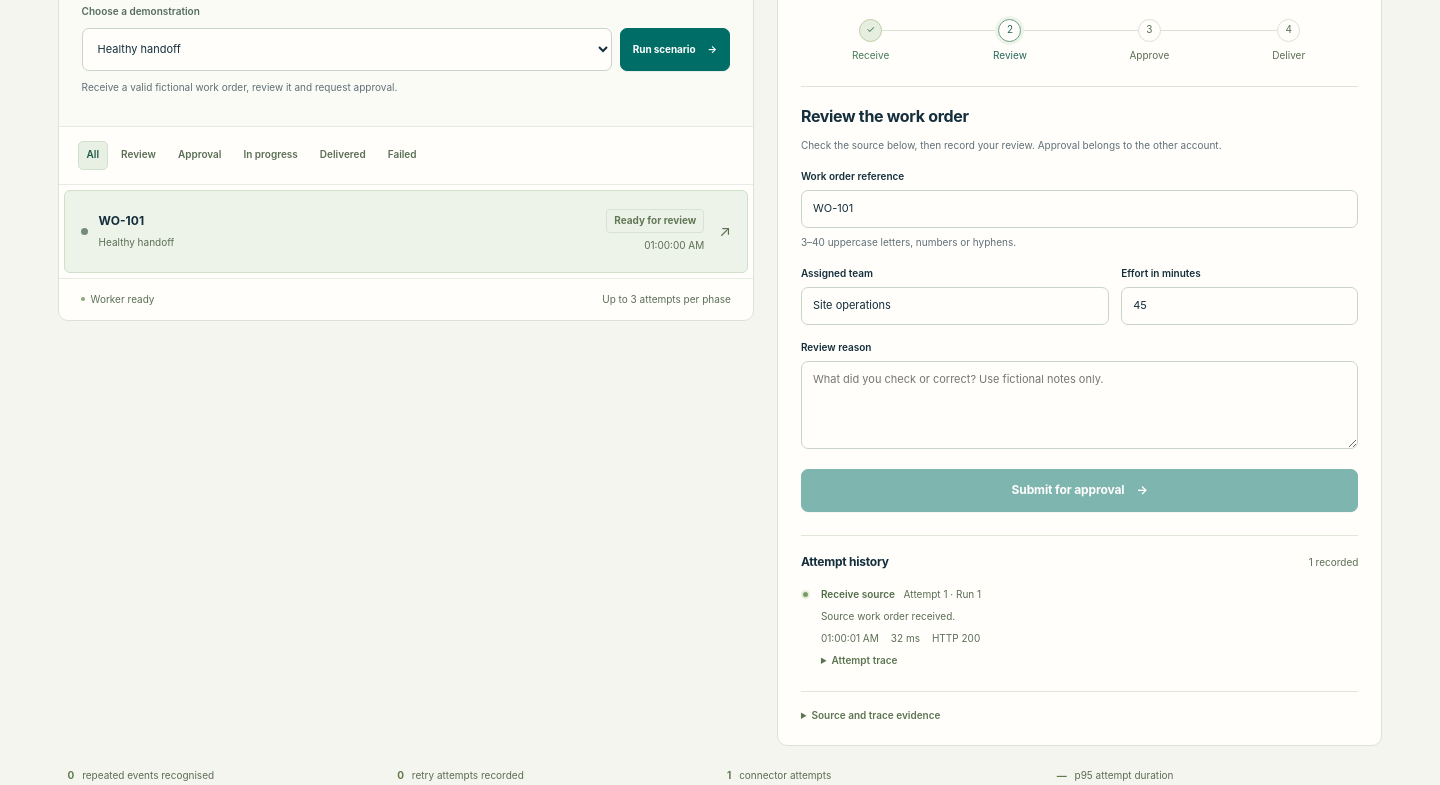
Test: Team edition commands and evidence › prevents further changes after a stale revision until the current snapshot is loaded
(page scrolled)
Type "Source details checked." into the text box labelled "Review reason".
click(1080, 405); type("Source details checked.")  # box 801,361 -> 1358,449
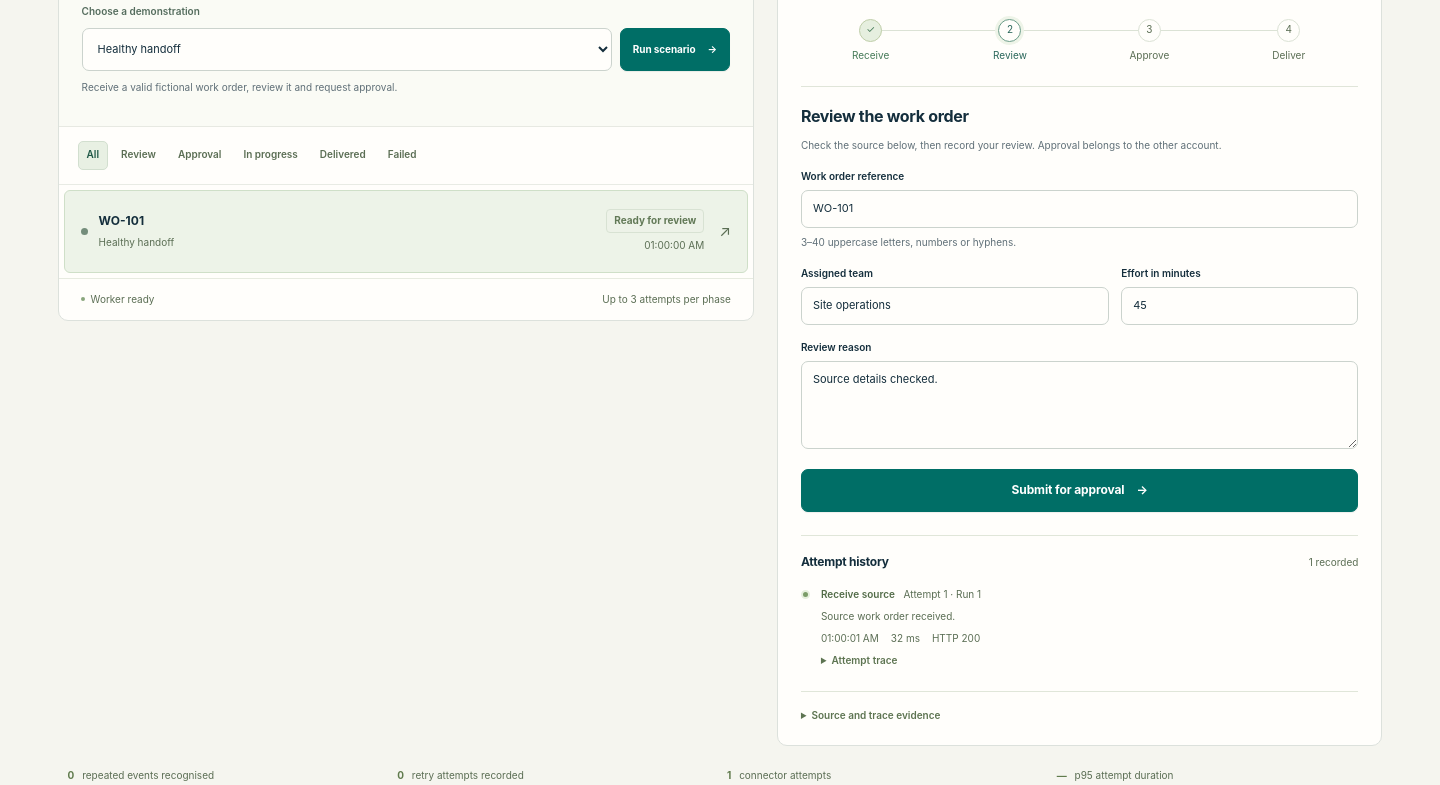
Click the button "Submit for approval →".
click(1080, 490)  # box 801,469 -> 1358,512
(page scrolled)
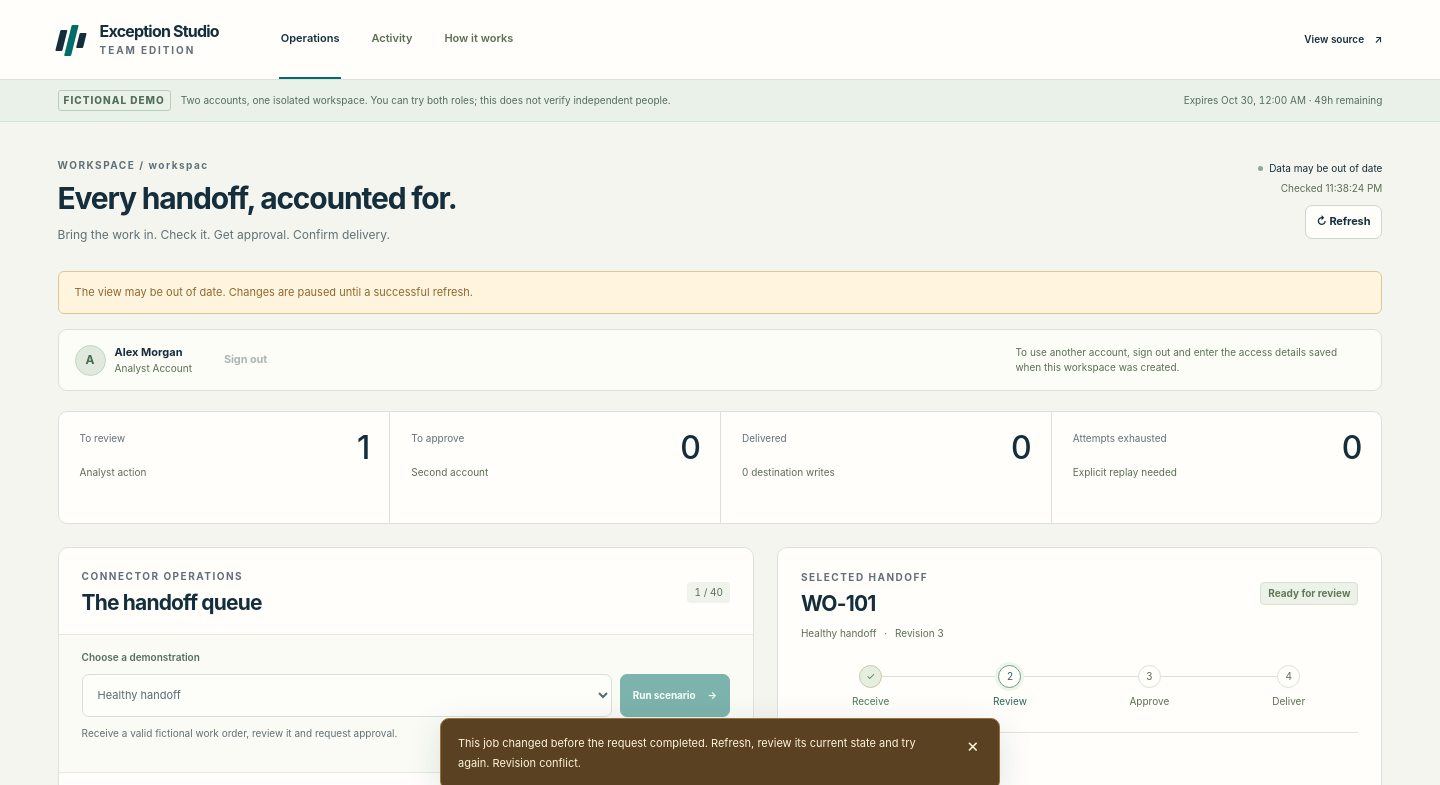
Result: the text "The view may be out of date. Changes are paused until a successful refresh." is shown at 58,271 -> 1382,314
Click the button "↻ Refresh".
click(1343, 222)  # box 1304,205 -> 1382,239
(page scrolled)
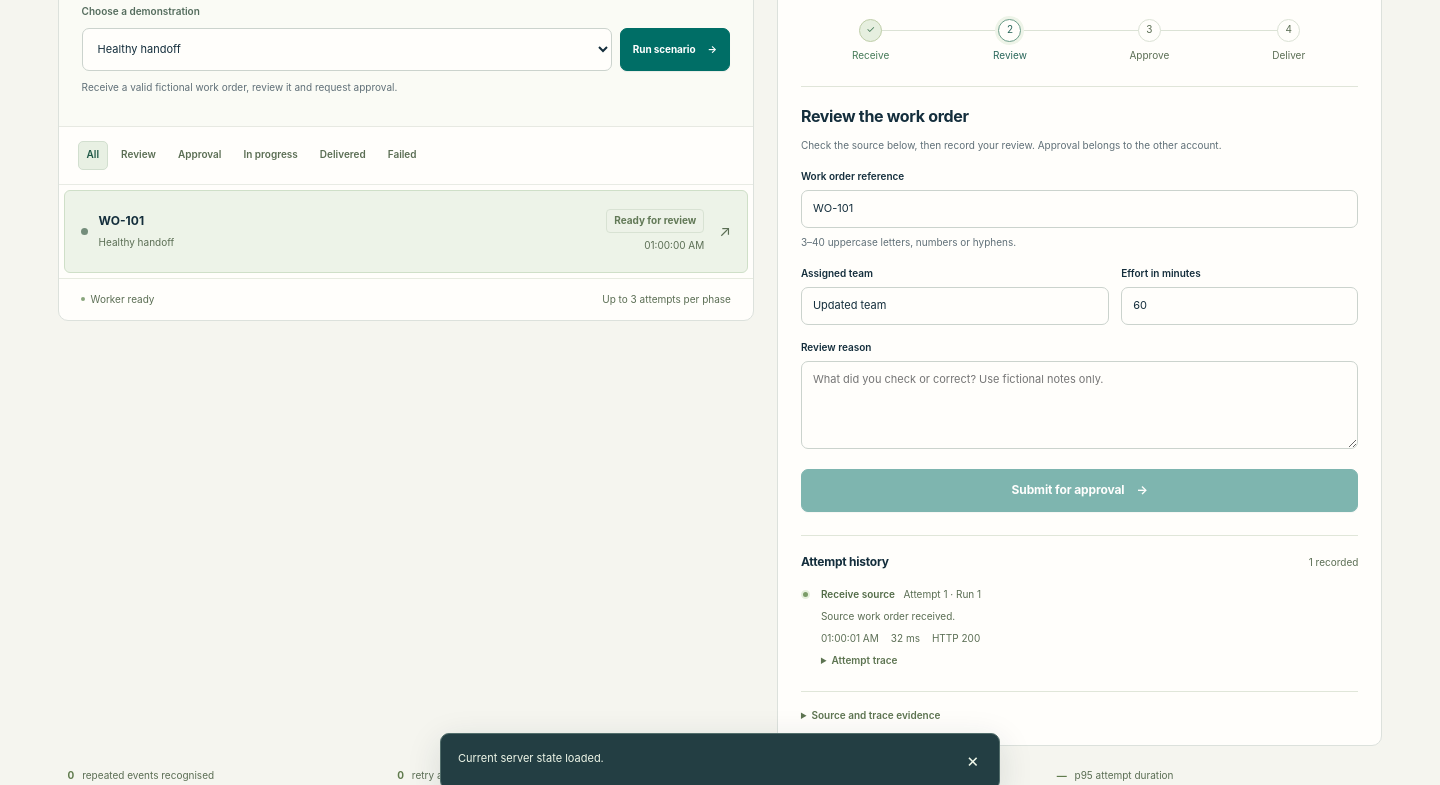
Result: the field labelled "Assigned team" holds "Updated team" at 801,287 -> 1109,325
Result: the text "Changes are paused until a successful refresh" is gone
Result: the text box labelled "Review reason" is empty at 801,361 -> 1358,449
